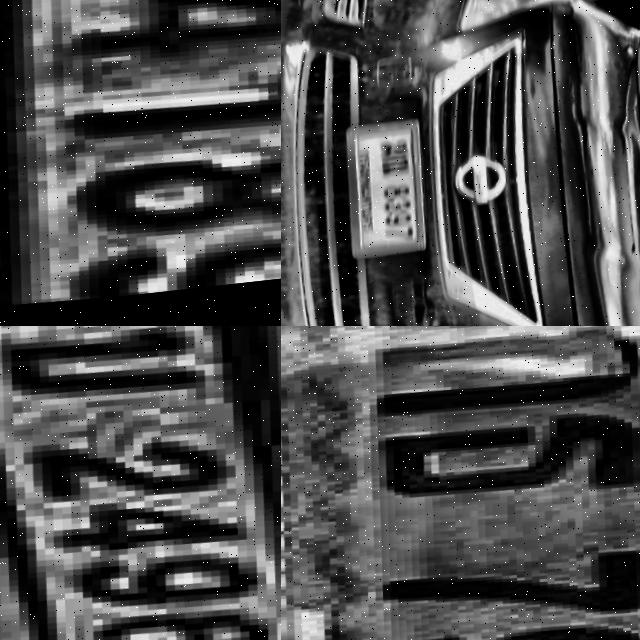license-plate: (281, 326, 640, 640), (0, 0, 281, 326), (0, 326, 281, 640), (326, 120, 428, 269)
